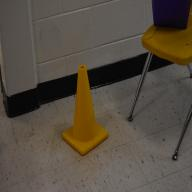cone: (62, 64, 109, 156)
cube: (152, 0, 192, 30)
